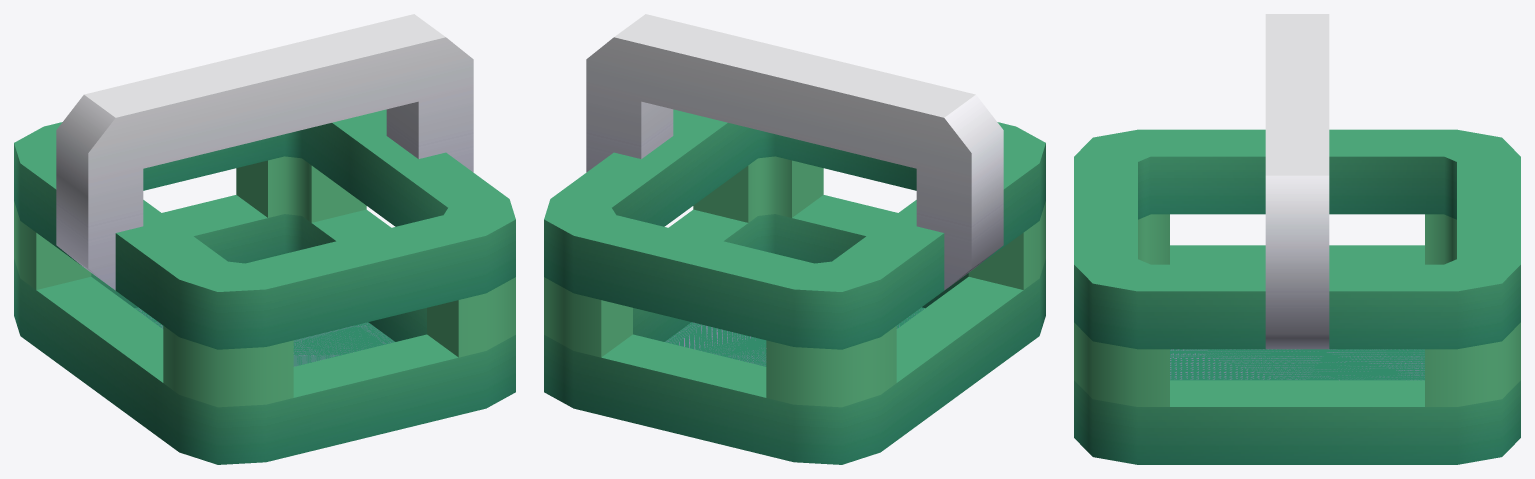
The model's file is shopping_basket.glb.
3 renders of one model, left to right at view 1: azimuth 30°, elevation 25°; view 2: azimuth 150°, elevation 25°; view 3: azimuth 270°, elevation 25°, orthographic.
Visible parts, largest first — view 1: shopping-basket; view 2: shopping-basket; view 3: shopping-basket.
Boxes of the visible parts, box(x1,y1,x2,y2) form: shopping-basket: box(14, 14, 515, 464); shopping-basket: box(544, 14, 1045, 464); shopping-basket: box(1074, 14, 1520, 464).
Bounding box in the file's own units: 0.35 × 0.25 × 0.35.
Materials: 1 (1 with a texture image).
